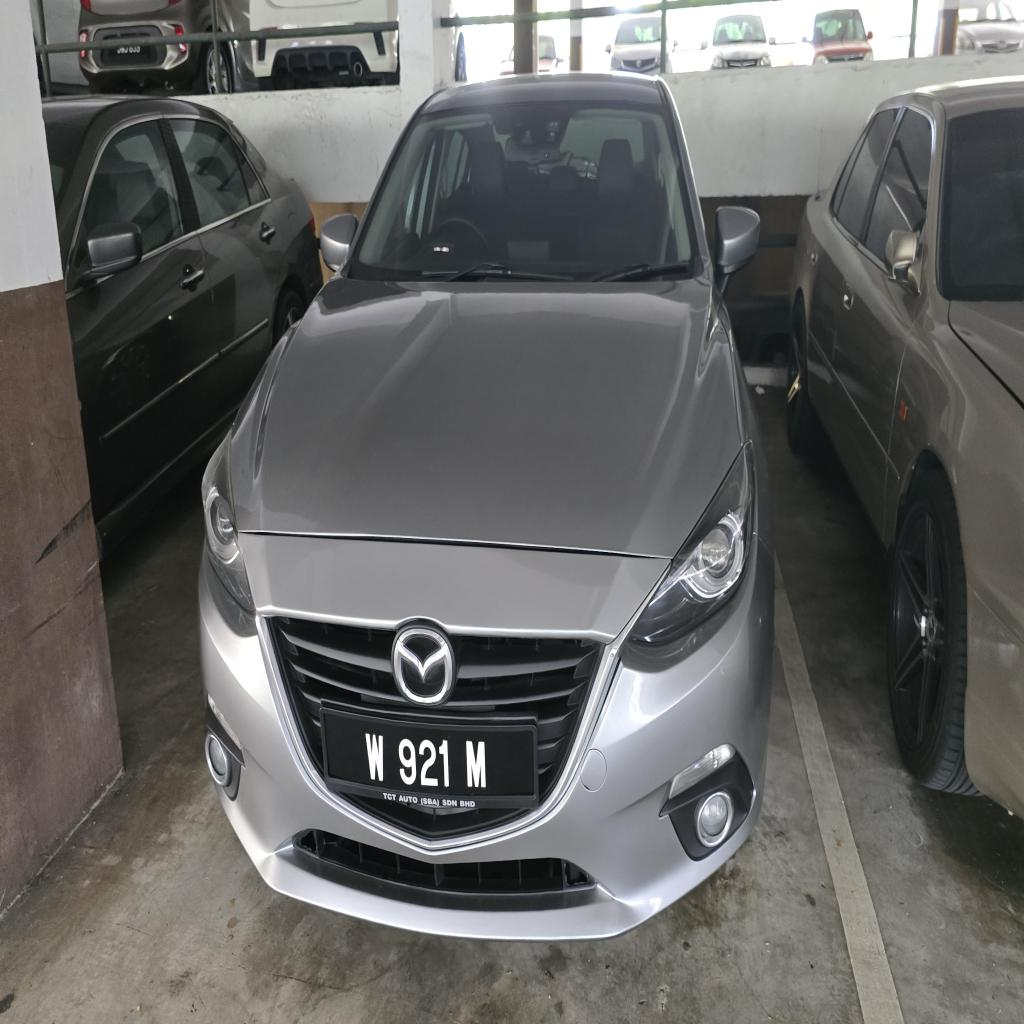car: (200, 75, 773, 938)
car plate: (322, 708, 536, 809)
